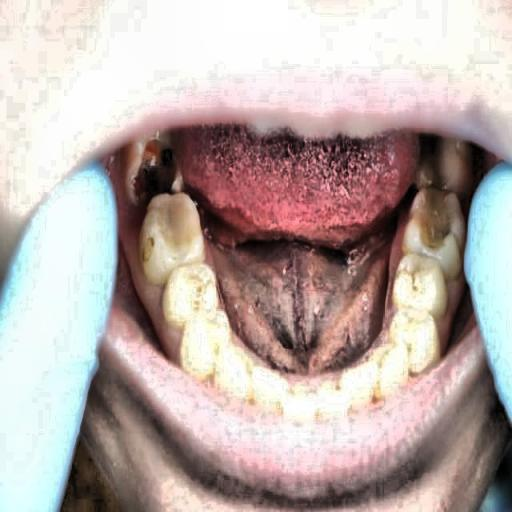Caries: (382, 160, 472, 276), (124, 120, 200, 228)
